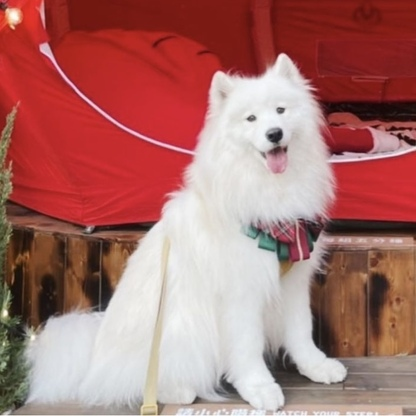samoyed: (20, 47, 356, 412)
